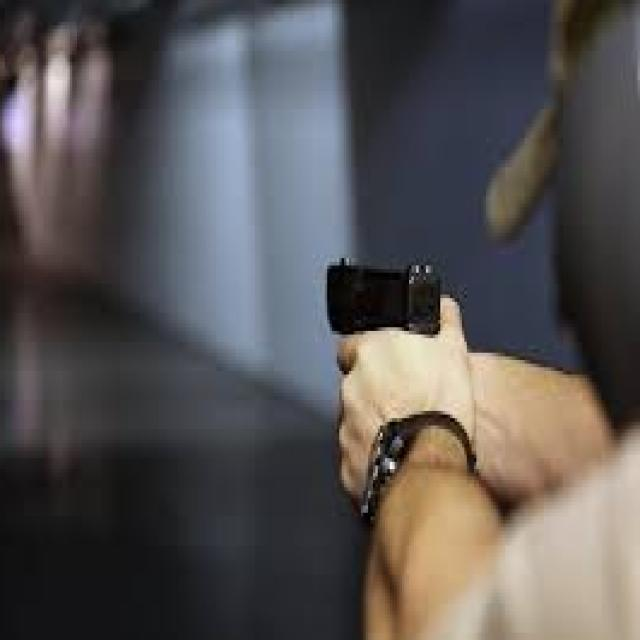gun: (300, 239, 459, 377)
